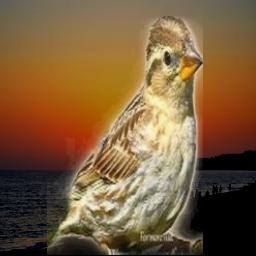Sparrow: (47, 16, 203, 255)
